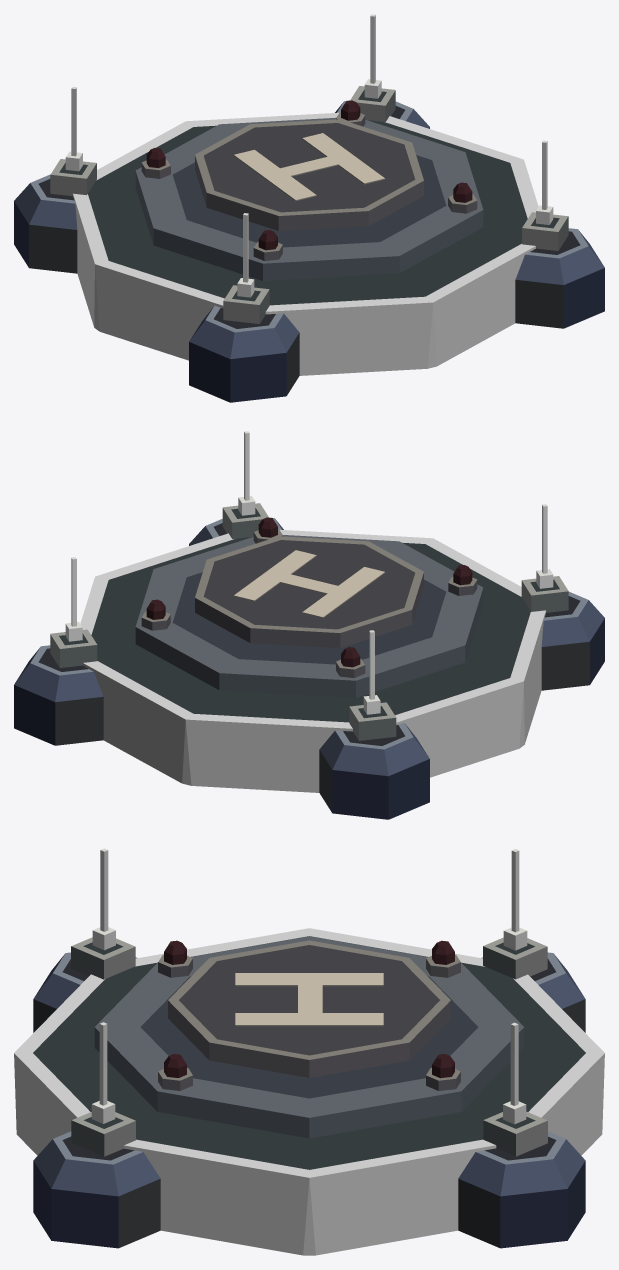
Rendered from TB_CITY_Skysc_L_Top_Gray.FBX.
3 views of the same model, one above another, from view 1: azimuth 30°, elevation 25°; view 2: azimuth 150°, elevation 25°; view 3: azimuth 270°, elevation 25° (orthographic). The views are drawn at different scales.
Visible parts, largest first — view 1: TB_CITY_Skysc_L_Top_Gray; view 2: TB_CITY_Skysc_L_Top_Gray; view 3: TB_CITY_Skysc_L_Top_Gray.
Part boxes in pixels (x1,y1,x2,y2): TB_CITY_Skysc_L_Top_Gray: (14,14,604,402); TB_CITY_Skysc_L_Top_Gray: (14,431,604,819); TB_CITY_Skysc_L_Top_Gray: (14,848,604,1255).
Size of the model in its own units: 34 by 12.35 by 34.
